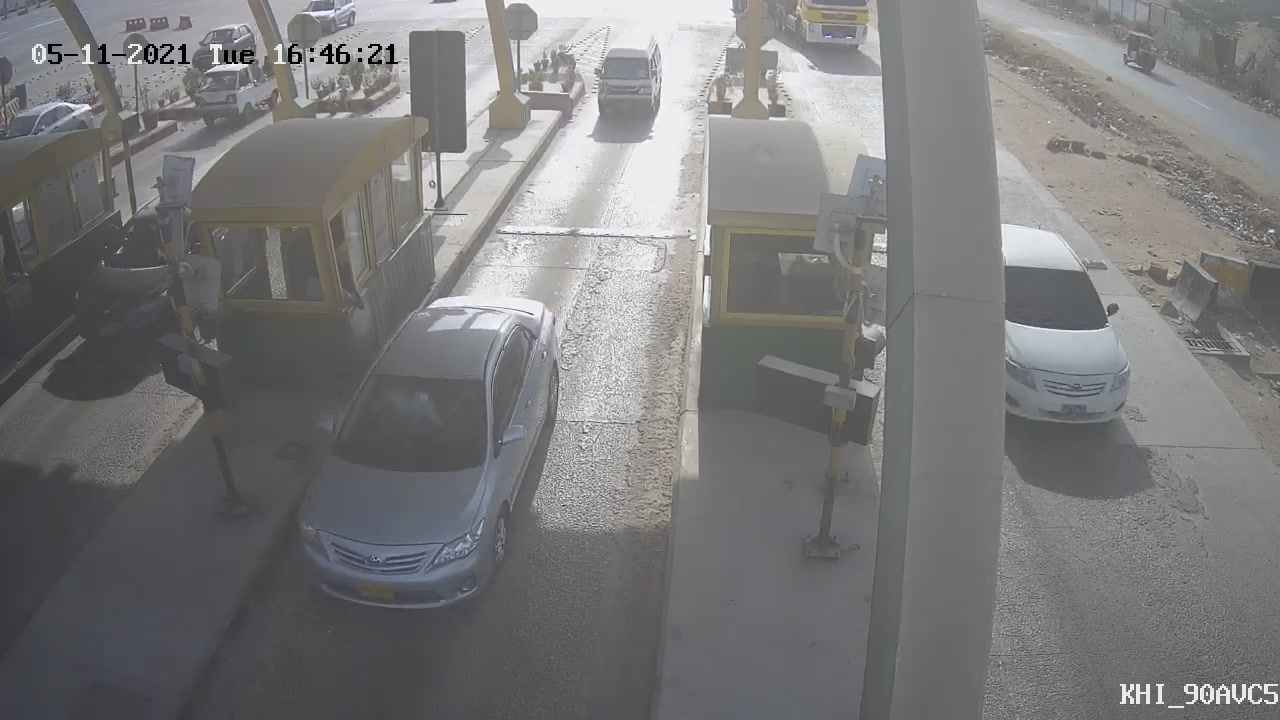F1: (270, 269, 581, 627), (578, 27, 676, 129)
